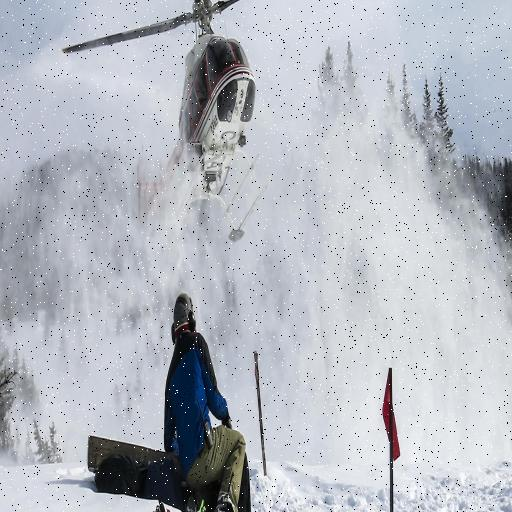helicopter: (62, 1, 274, 251)
